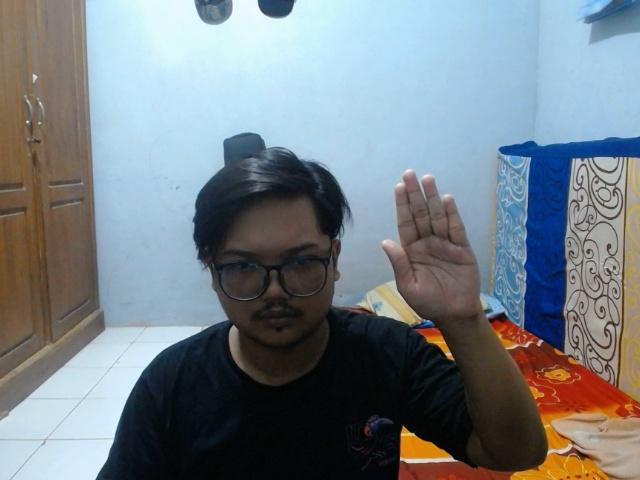Release: (374, 163, 493, 328)
